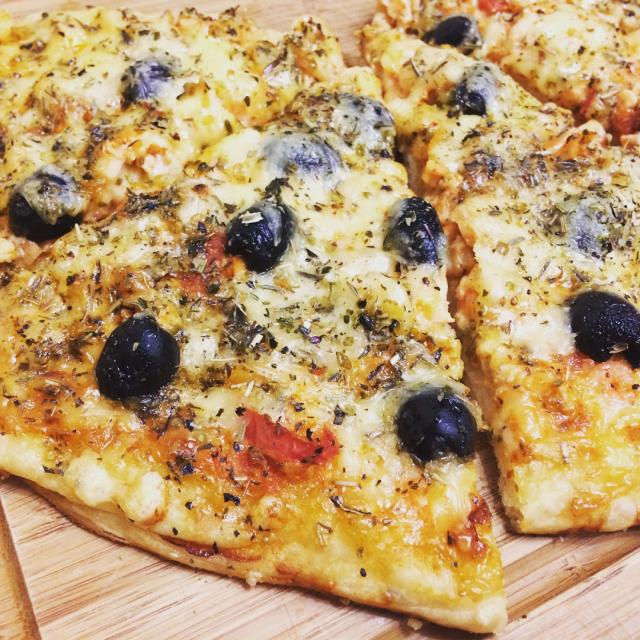black_olives: (91, 319, 181, 399), (398, 389, 484, 464), (7, 160, 84, 243), (563, 289, 640, 367), (225, 201, 299, 271), (386, 194, 446, 265), (564, 191, 623, 258), (119, 56, 177, 111), (418, 13, 482, 57), (348, 94, 398, 146), (276, 135, 336, 176), (448, 72, 498, 116)
pizza: (0, 0, 640, 637)
tomatoes: (234, 398, 346, 470), (476, 0, 513, 15)
